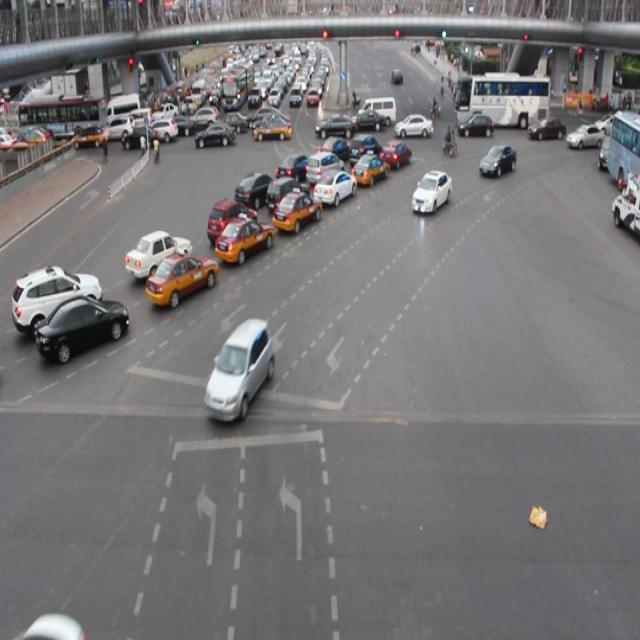car: (204, 316, 274, 421), (35, 292, 126, 362), (10, 263, 101, 326), (145, 250, 216, 308), (124, 230, 191, 276), (215, 212, 272, 262), (205, 196, 256, 246), (270, 188, 319, 234), (410, 169, 450, 214), (312, 166, 355, 206), (264, 176, 309, 213), (235, 172, 278, 210), (274, 153, 314, 188), (351, 149, 388, 186), (478, 143, 515, 178), (378, 138, 409, 170), (348, 132, 379, 164), (316, 134, 349, 162)
truck: (304, 152, 344, 188)
